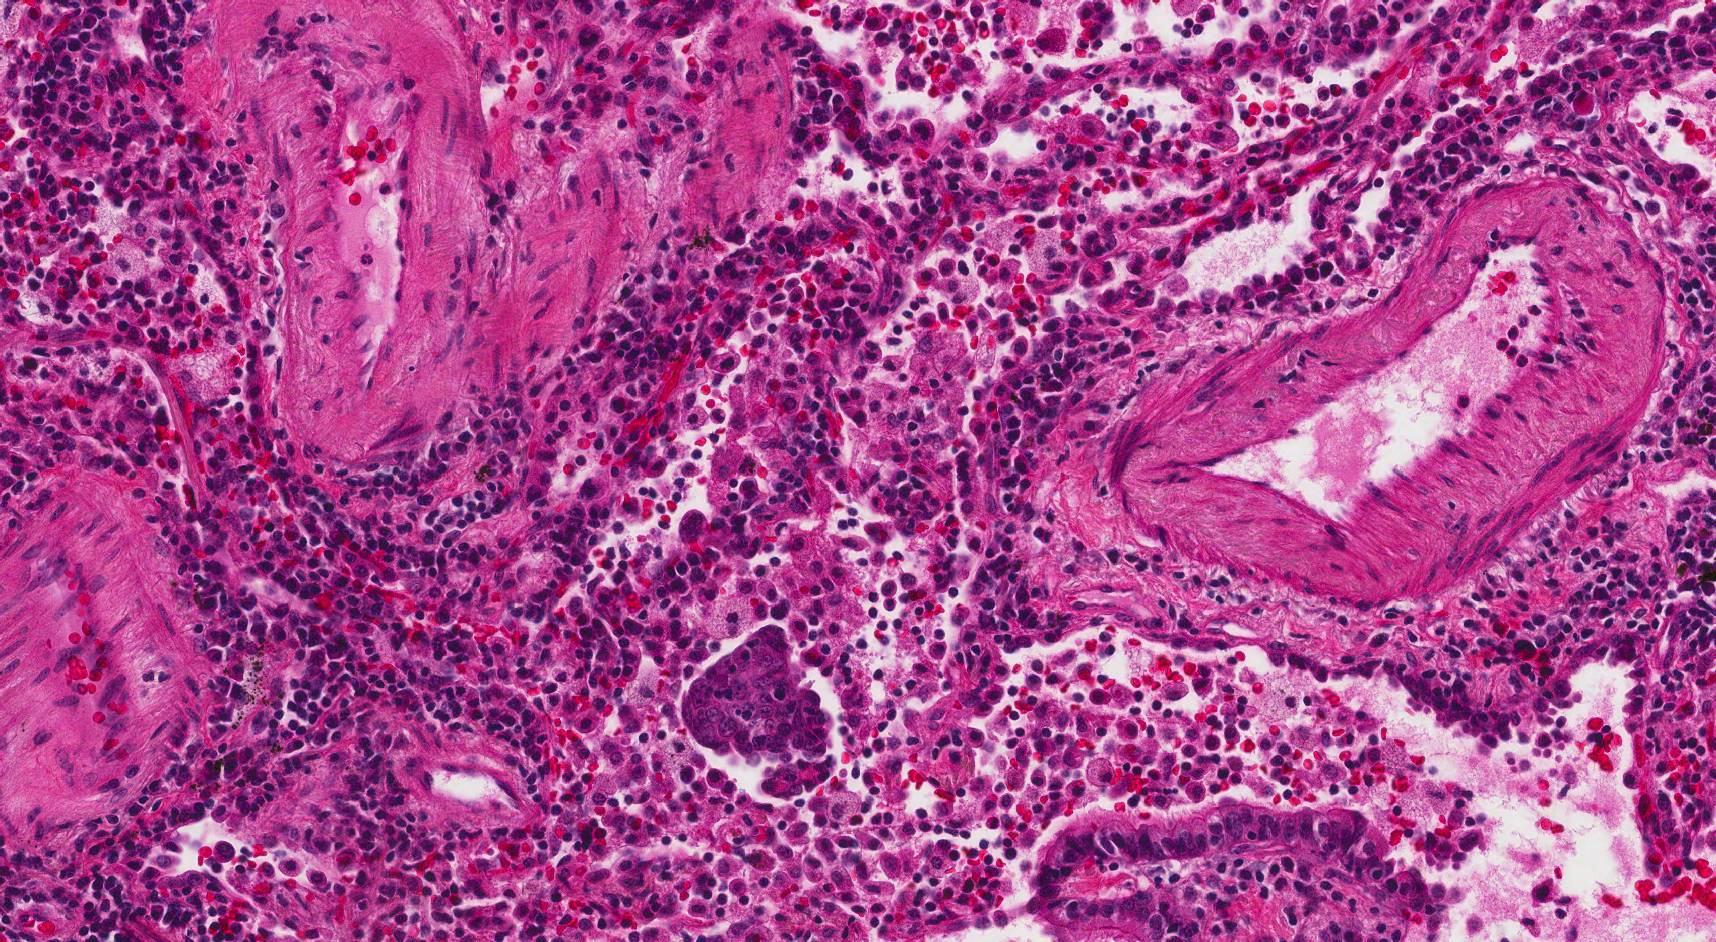stas: (679, 625, 833, 759)
